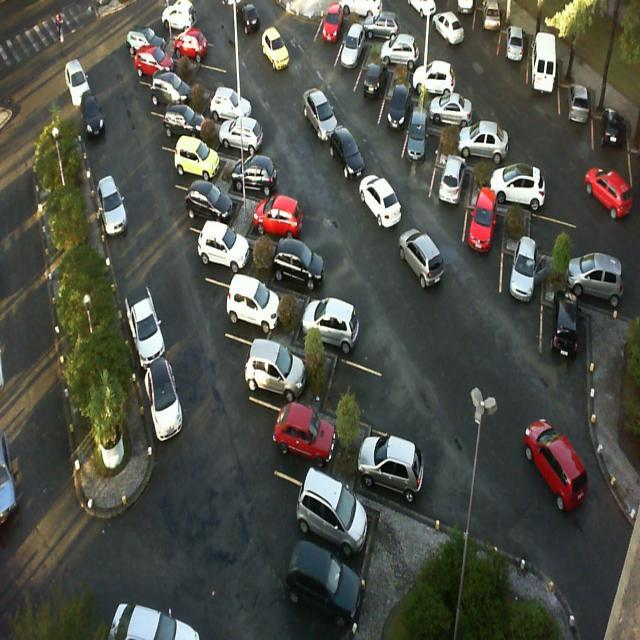space-empty: (317, 353, 388, 431), (533, 205, 585, 263), (192, 58, 237, 94)
space-occupied: (304, 468, 388, 582), (271, 390, 348, 479), (365, 425, 432, 507), (245, 326, 312, 406), (223, 270, 286, 343), (302, 288, 362, 358), (272, 235, 337, 297), (570, 260, 630, 322), (542, 303, 591, 374), (204, 224, 262, 281), (254, 192, 315, 246), (192, 176, 248, 234), (237, 148, 295, 200), (468, 198, 507, 272), (503, 241, 543, 312), (202, 78, 258, 127), (496, 165, 552, 214), (171, 139, 224, 188), (431, 163, 472, 225), (400, 122, 442, 182), (158, 101, 207, 151), (464, 124, 514, 170), (315, 9, 352, 68), (380, 92, 416, 152), (222, 117, 272, 160), (410, 61, 458, 104), (354, 63, 392, 116), (335, 40, 372, 94), (151, 75, 197, 116), (561, 75, 590, 136), (139, 46, 182, 87), (434, 94, 478, 134), (175, 31, 220, 68), (366, 11, 411, 48), (500, 30, 532, 79), (529, 50, 560, 100), (389, 38, 428, 74)
